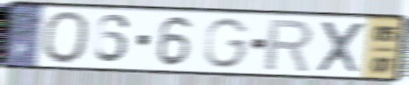6: (94, 13, 133, 66), (156, 14, 194, 68)
G: (202, 16, 252, 71)
O: (40, 9, 92, 66)
R: (262, 17, 316, 73)
X: (314, 19, 367, 76)
